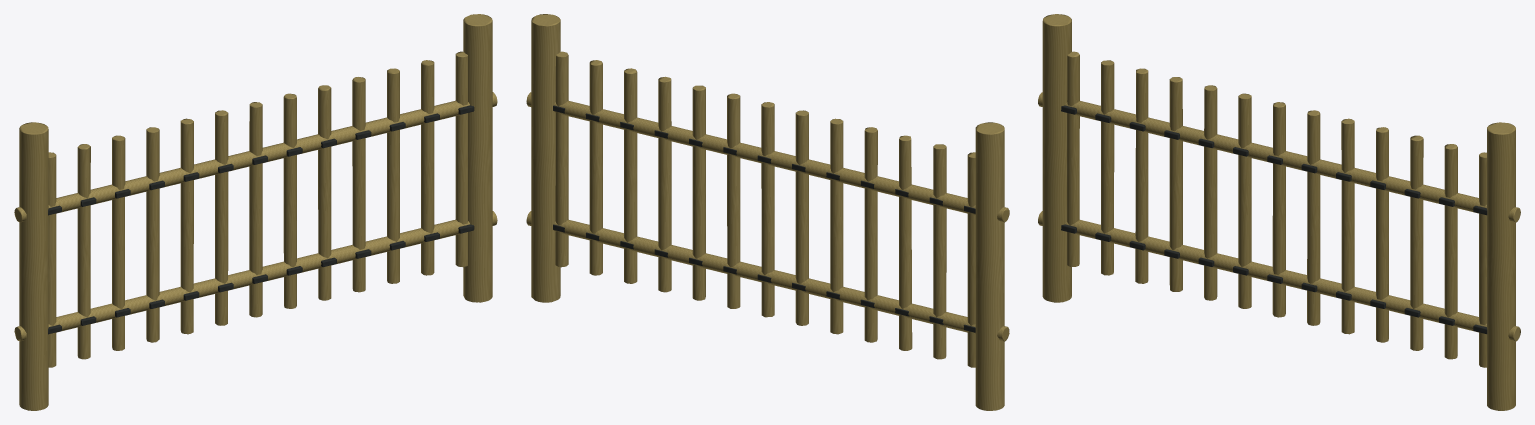
Rendered from fence.gltf.
3 renders of one model, left to right at view 1: azimuth 30°, elevation 25°; view 2: azimuth 150°, elevation 25°; view 3: azimuth 330°, elevation 25°, orthographic.
Size of the model in its own units: 1.8 by 1 by 0.096.
Materials: 2 (2 with a texture image).
